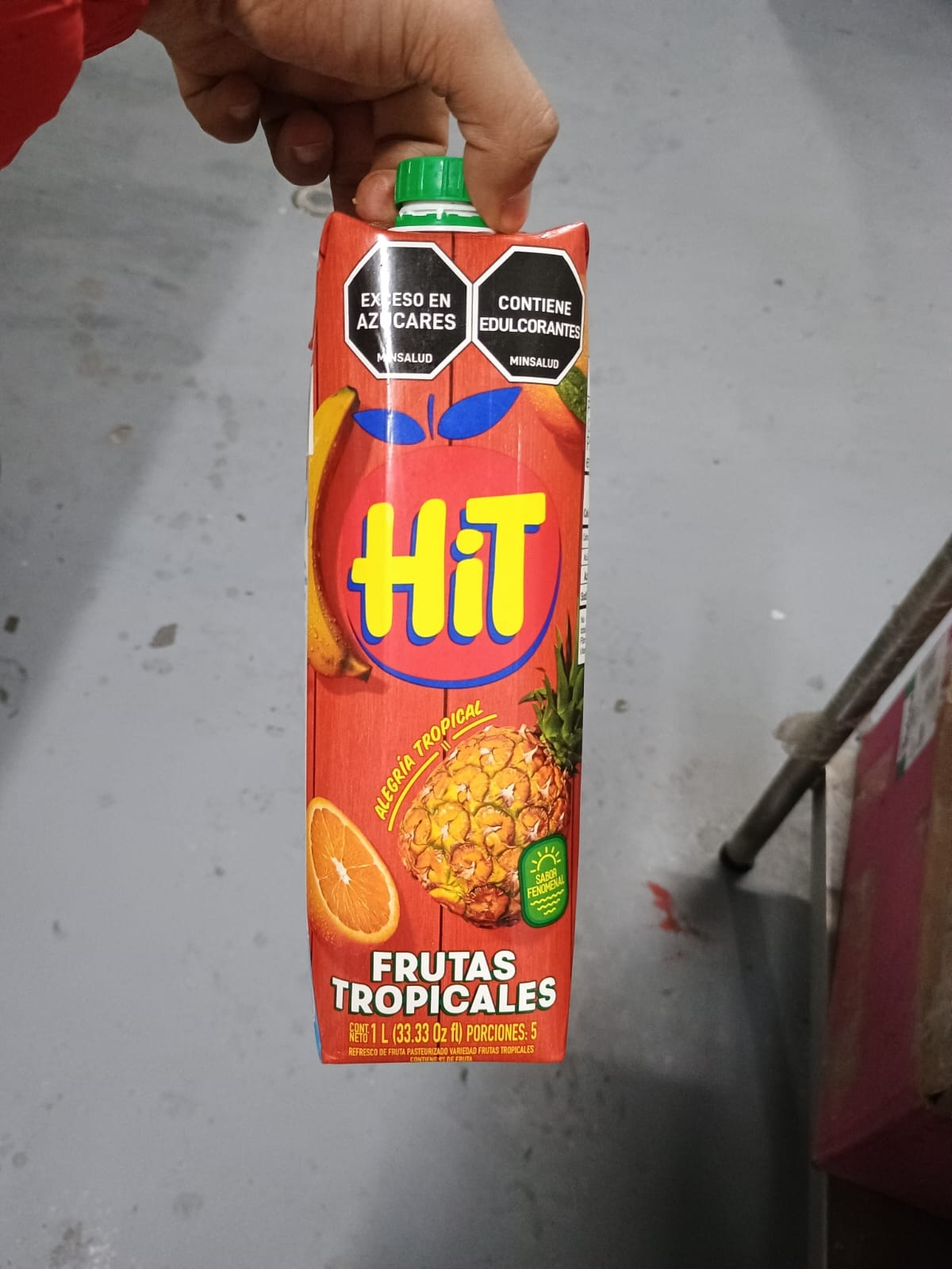Carton: (310, 227, 590, 1064)
Plastico: (397, 159, 474, 196)
